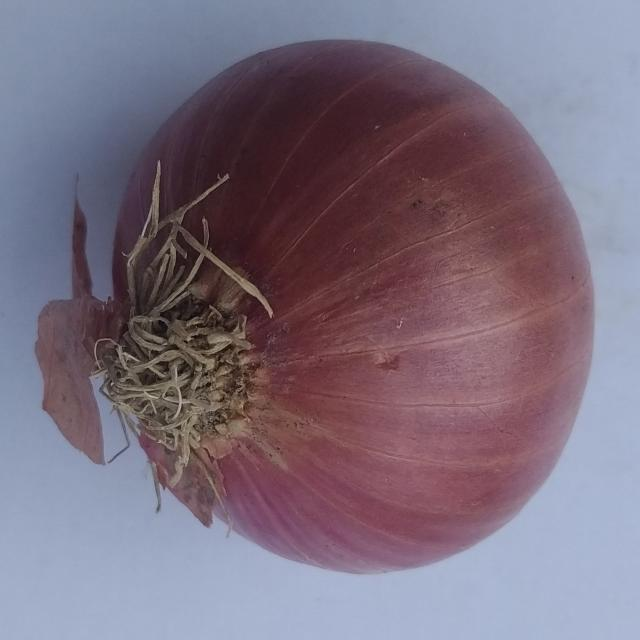onion: (32, 38, 595, 578)
